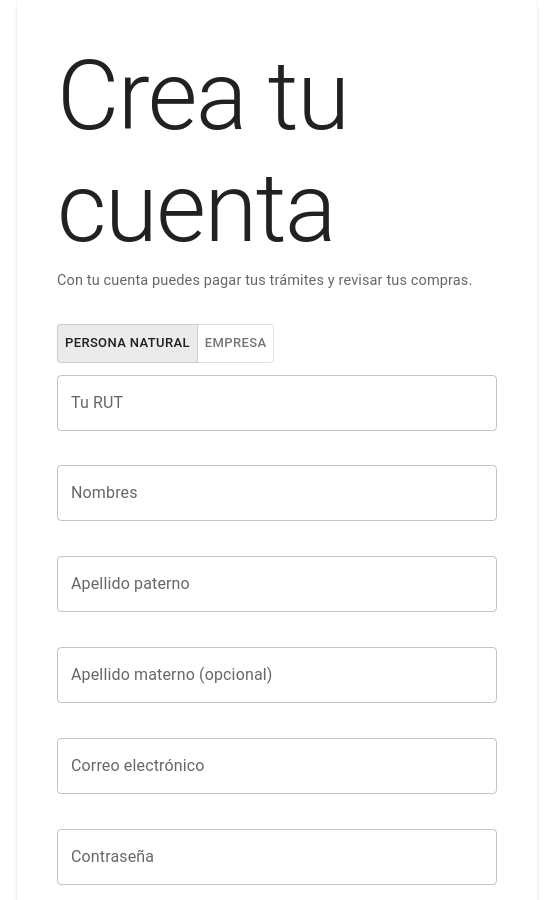
Test case: Registro › shows the server's generic refusal
Type "11.111.111-1" into the field labelled "Tu RUT" at (277, 403), box [57, 375, 497, 431]
Type "Camila" into the field labelled "Nombres" at (277, 494), box [57, 466, 497, 522]
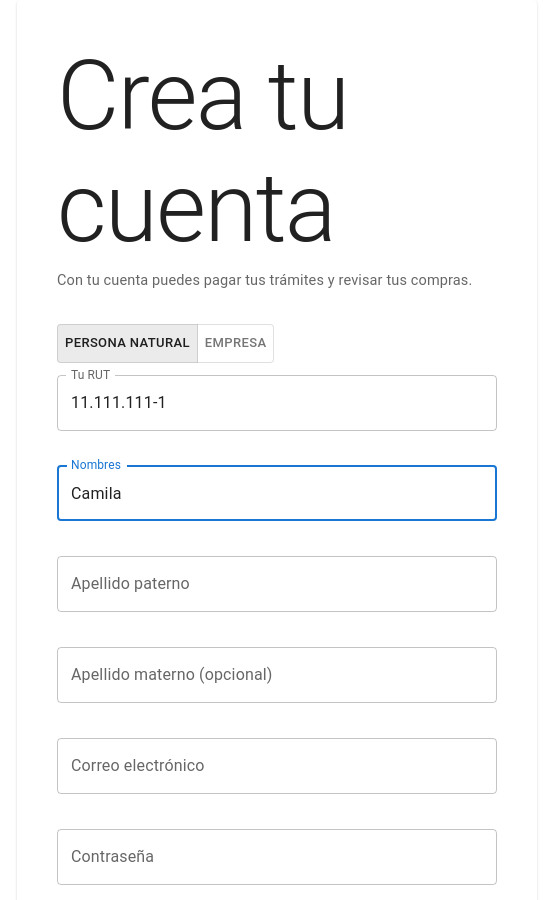
Type "Soto" into the field labelled "Apellido paterno" at (277, 584), box [57, 556, 497, 612]
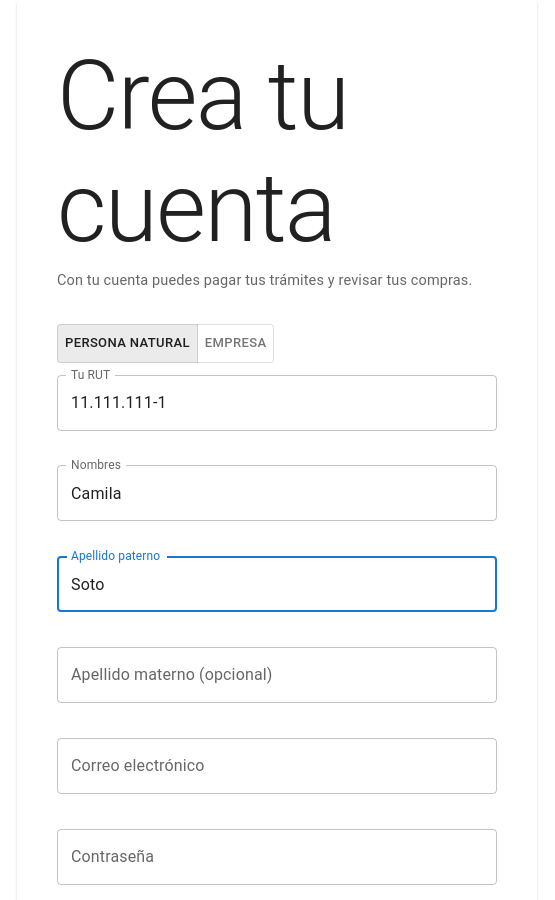
Type "camila.soto@example.test" into the field labelled "Correo electrónico" at (277, 766), box [57, 738, 497, 794]
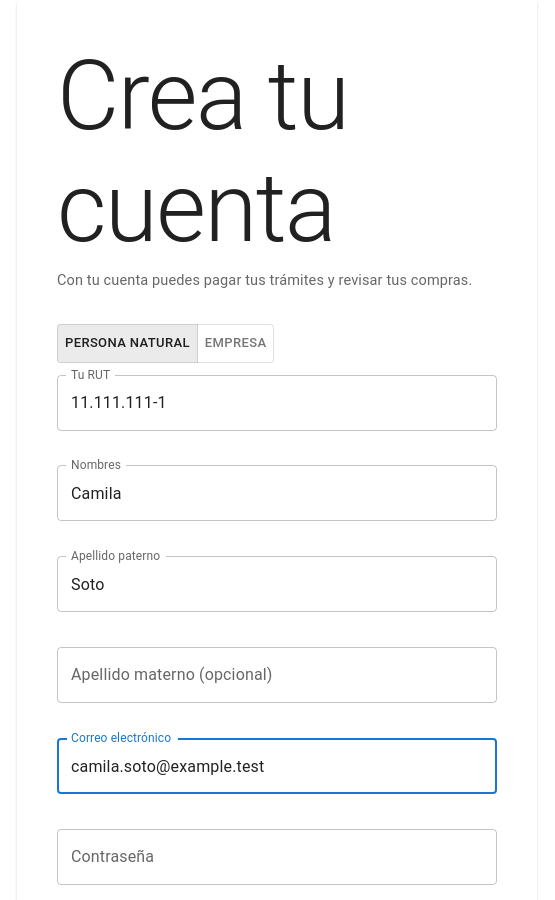
Type "clave-segura-1" into the password field labelled "Contraseña" at (277, 857), box [57, 829, 497, 885]
(page scrolled)
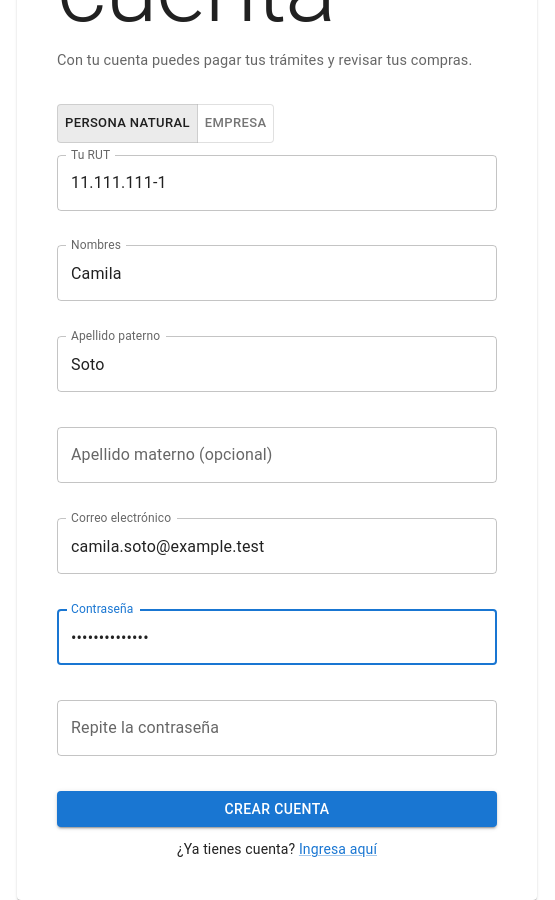
Type "clave-segura-1" into the password field labelled "Repite la contraseña" at (277, 728), box [57, 700, 497, 756]
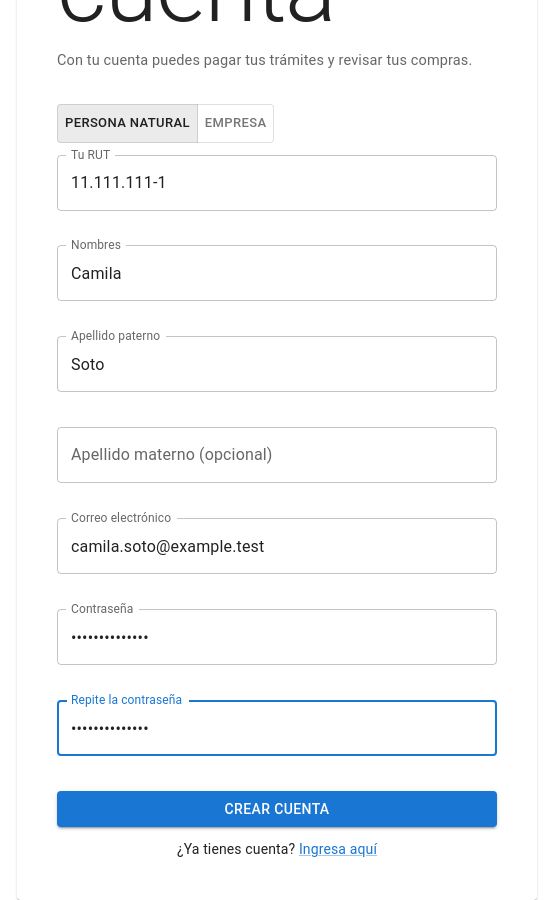
Click the button "Crear cuenta" at (277, 809), box [57, 791, 497, 827]
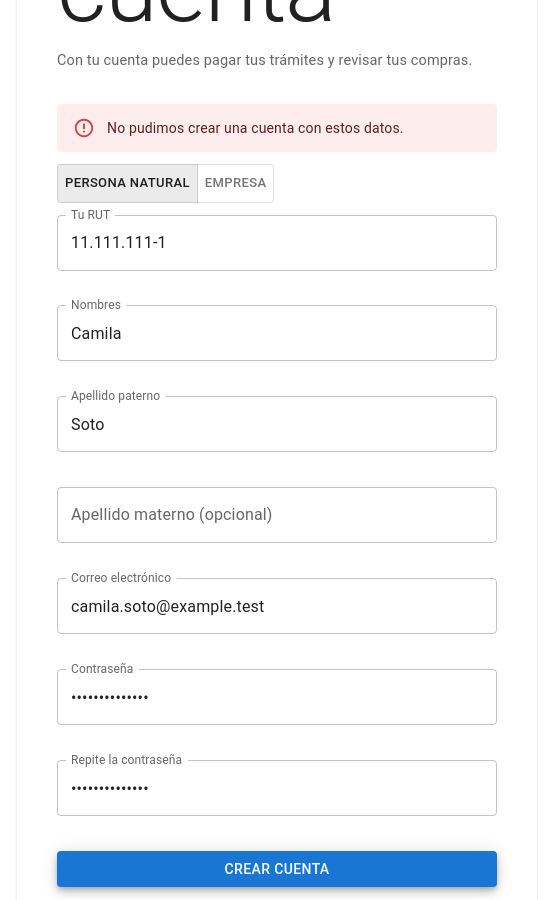
Result: the text "No pudimos crear una cuenta con estos datos." is shown at [107, 120, 404, 136]
